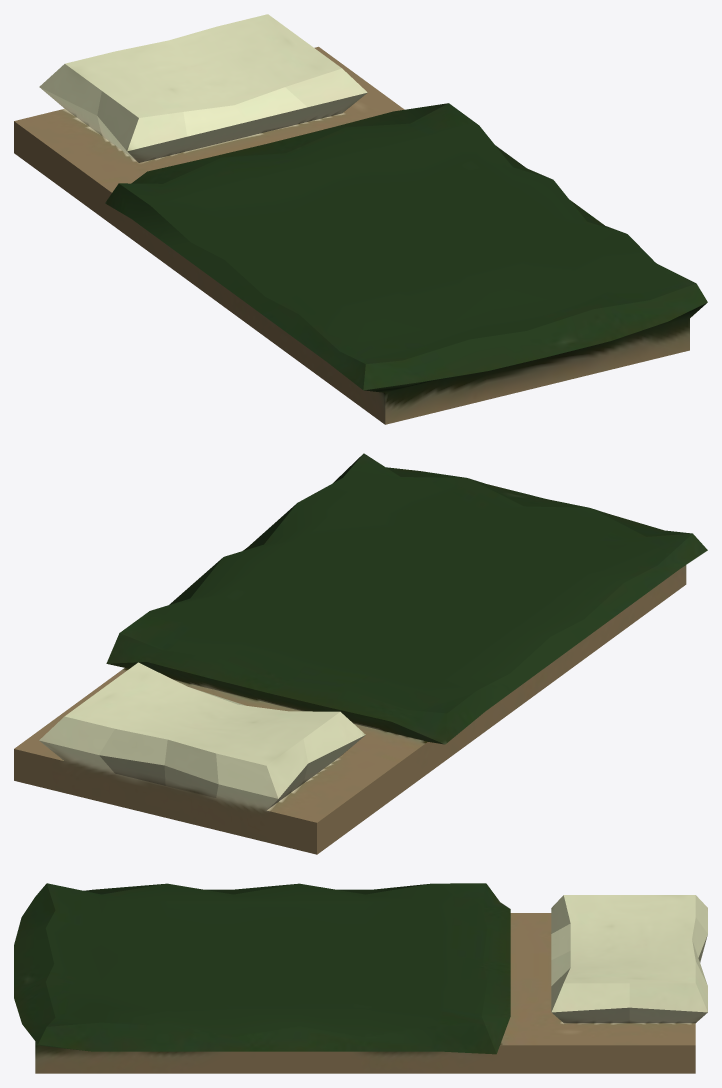
The model's file is bedV1.obj.
3 views of the same model, one above another, from view 1: azimuth 30°, elevation 25°; view 2: azimuth 150°, elevation 25°; view 3: azimuth 270°, elevation 25° (orthographic). The views are drawn at different scales.
Visible parts, largest first — view 1: bed; view 2: bed; view 3: bed.
Part boxes in pixels (x1,y1,x2,y2): bed: (14, 14, 707, 424); bed: (14, 453, 707, 854); bed: (14, 883, 707, 1073).
Size of the model in its own units: 0.7337 by 0.1515 by 1.39.
1 material, 1 textured.
